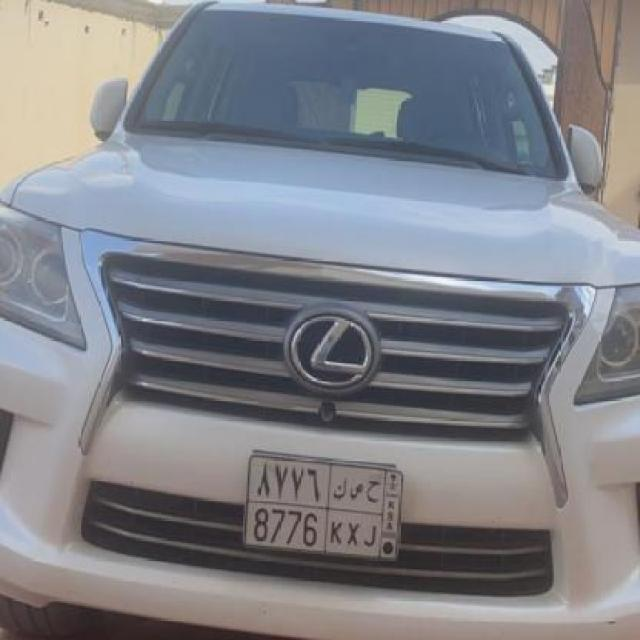license_plate: (242, 448, 406, 564)
